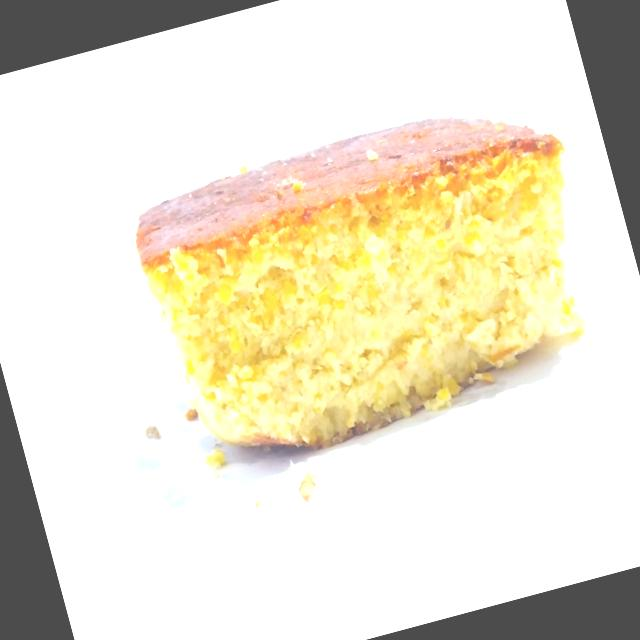Chipa_Guazu: (106, 61, 628, 493)
